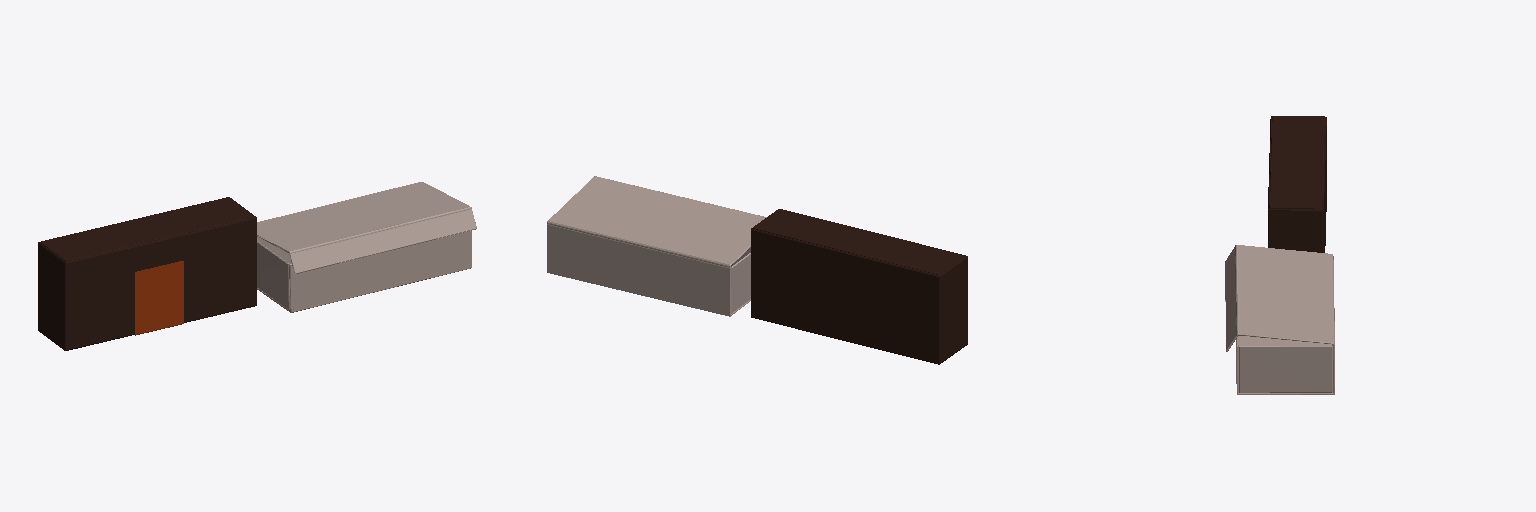
Rendered from takeoutboxes_01.obj.
The picture shows the model from 3 angles: view 1: azimuth 30°, elevation 25°; view 2: azimuth 150°, elevation 25°; view 3: azimuth 270°, elevation 25°; orthographic projection.
Visible parts, largest first — view 1: takeoutboxes_01_Mesh.399; view 2: takeoutboxes_01_Mesh.399; view 3: takeoutboxes_01_Mesh.399.
Boxes of the visible parts, box(x1,y1,x2,y2) form: takeoutboxes_01_Mesh.399: box(38, 182, 476, 350); takeoutboxes_01_Mesh.399: box(547, 176, 967, 364); takeoutboxes_01_Mesh.399: box(1225, 116, 1334, 394).
Bounding box in the file's own units: 0.8756 × 0.1939 × 0.2137.